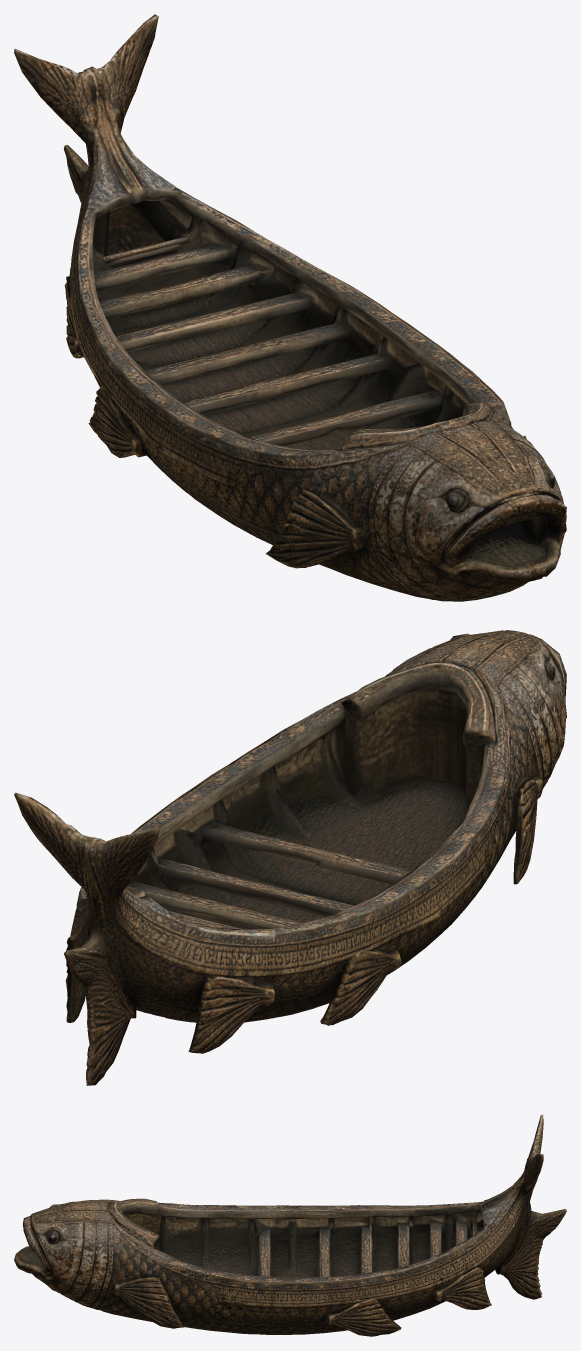
File: tripo_convert_000a375e-afe5-4fe7-a3e7-53a46ccd9e5c.fbx
3 renders of one model, top to bottom at view 1: azimuth 30°, elevation 25°; view 2: azimuth 150°, elevation 25°; view 3: azimuth 270°, elevation 25°, orthographic. The views are drawn at different scales.
Visible parts, largest first — view 1: tripo_node_000a375e; view 2: tripo_node_000a375e; view 3: tripo_node_000a375e.
Boxes of the visible parts, x1,y1,x2,y2 form: tripo_node_000a375e: [14, 14, 566, 601]; tripo_node_000a375e: [14, 630, 566, 1085]; tripo_node_000a375e: [14, 1114, 566, 1336].
Bounding box in the file's own units: 0.3364 × 0.3672 × 0.9783.
1 material, 1 textured.
